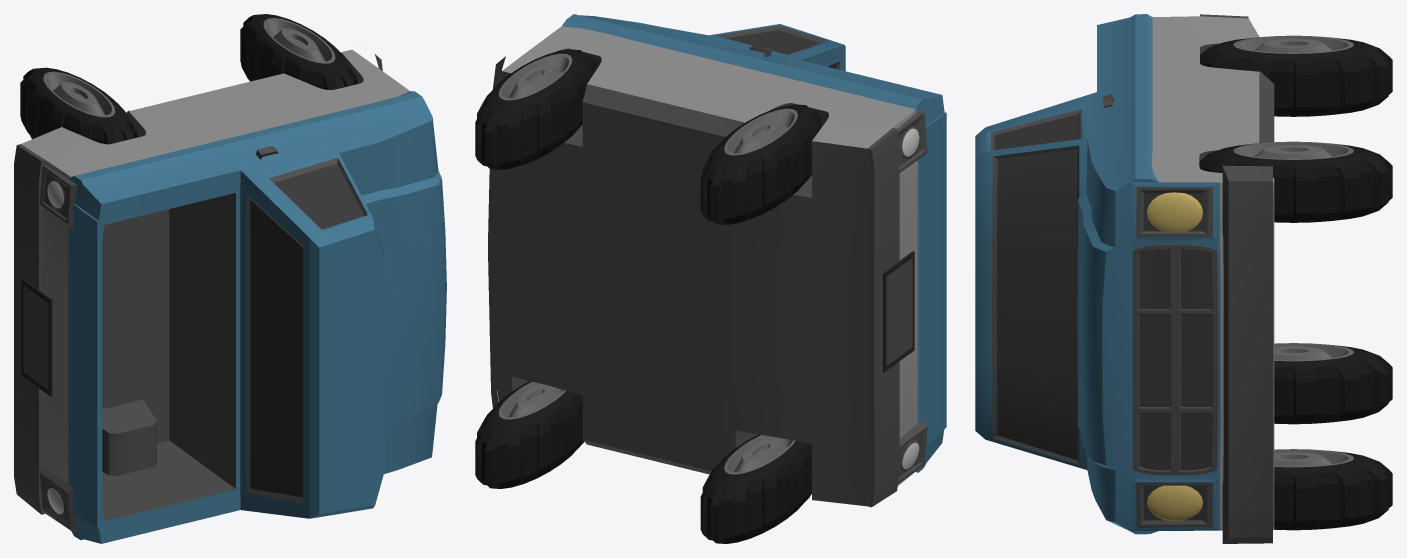
File: pickup.glb
3 views of the same model, side by side, from view 1: azimuth 30°, elevation 25°; view 2: azimuth 150°, elevation 25°; view 3: azimuth 270°, elevation 25° (orthographic). The views are drawn at different scales.
Parts seen in each view (by area): view 1: vehicle/pickup; view 2: vehicle/pickup; view 3: vehicle/pickup.
Boxes of the visible parts, x1=… form: vehicle/pickup: x1=14, y1=14, x2=446, y2=543; vehicle/pickup: x1=475, y1=14, x2=946, y2=543; vehicle/pickup: x1=975, y1=14, x2=1392, y2=543.
Size of the model in its own units: 1 by 1 by 1.
